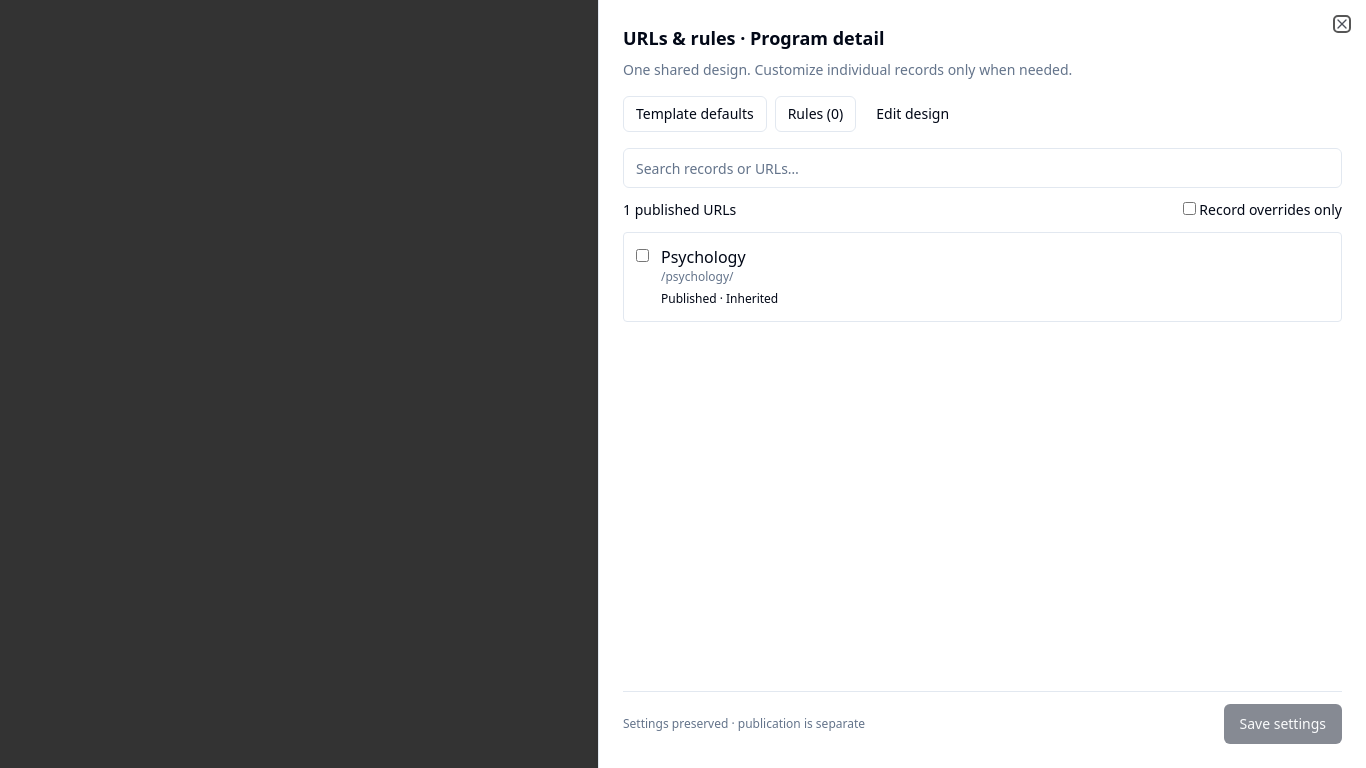
it: clean template URLs editor › shows revision conflicts without discarding the local draft
The image size is (1366, 768).
Click the button "Template defaults".
click(695, 114)  # box [623, 96, 767, 132]
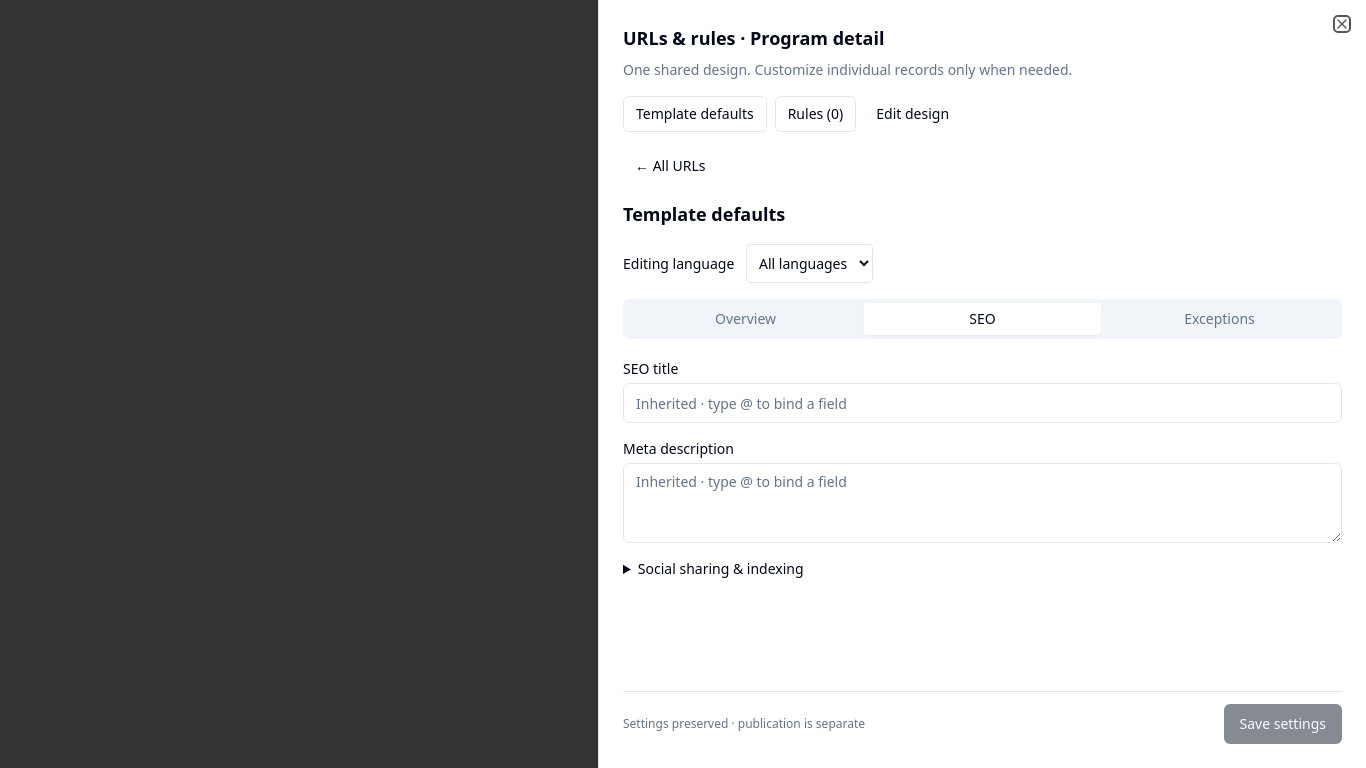
Type "My draft" into the field named "SEO title".
click(982, 403); type("My draft")  # box [623, 383, 1342, 423]
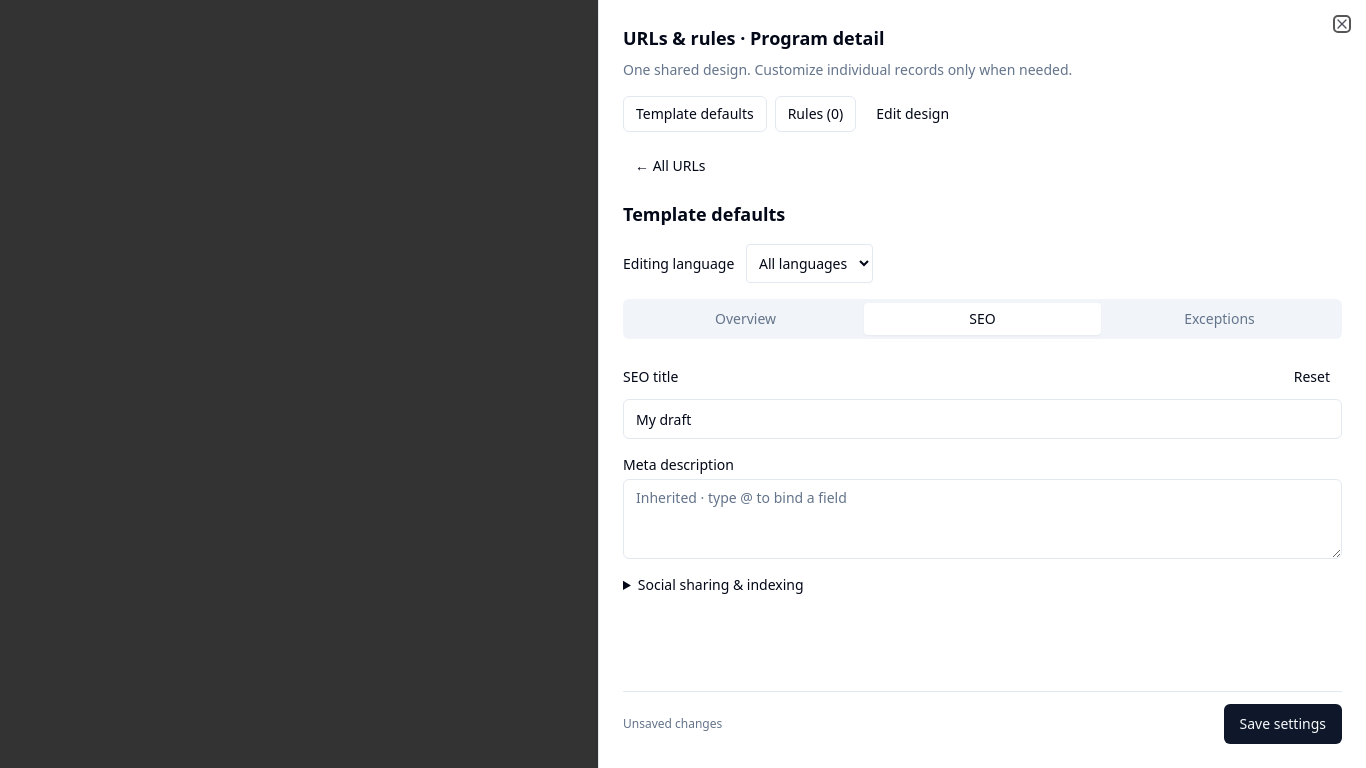
Click the button "Save settings".
click(1283, 724)  # box [1224, 704, 1342, 744]
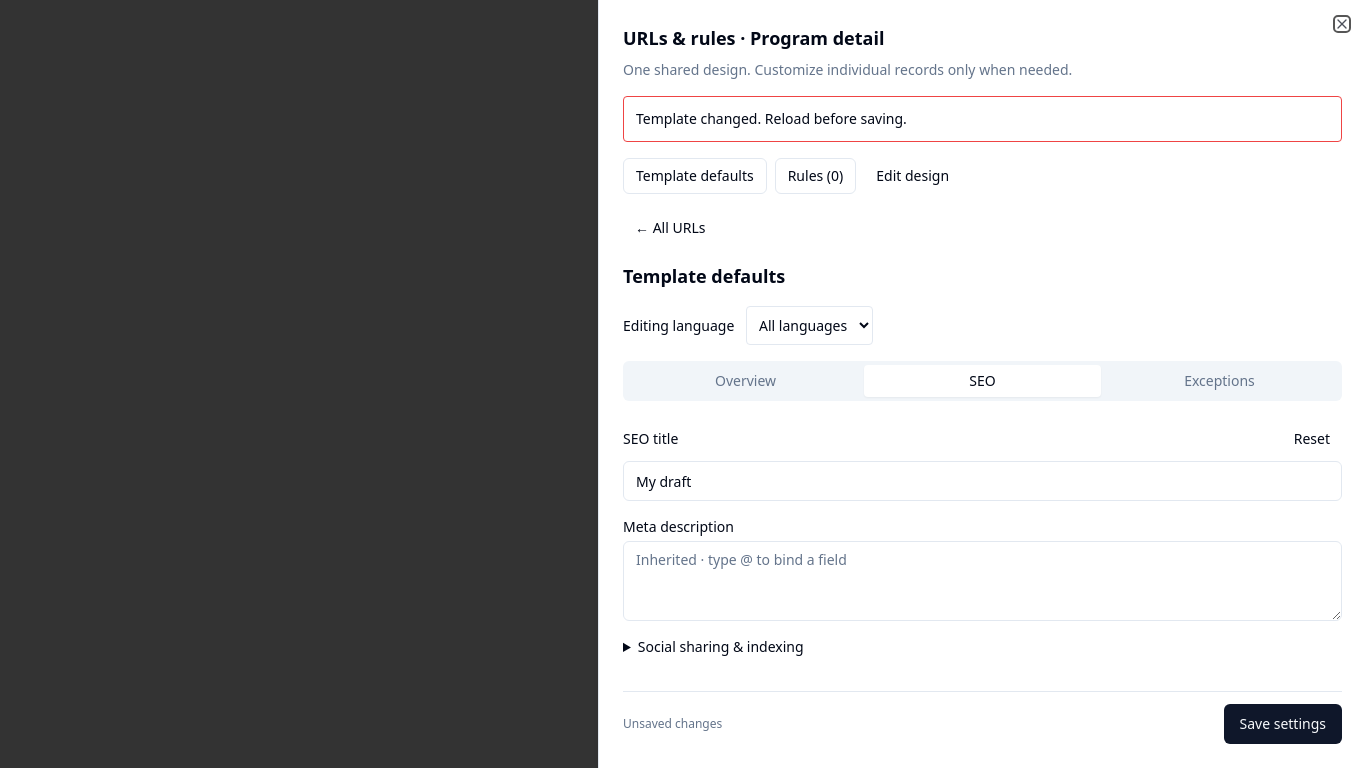
Expected: the message shows "Template changed", [636, 109, 907, 128]
